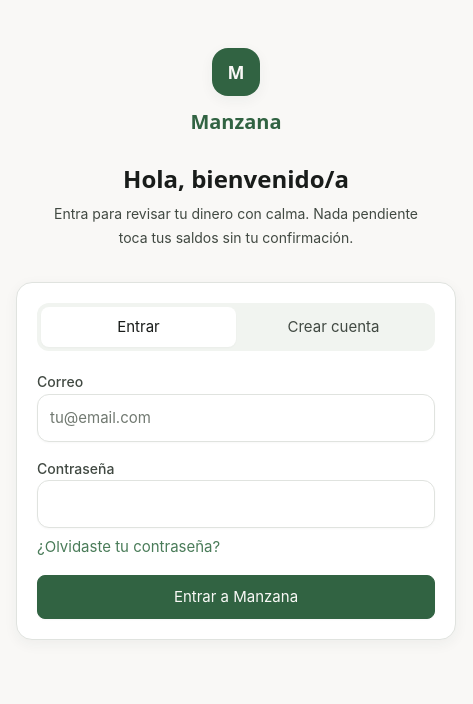
Test case: AuthScreen — AC-AUTH-01/RUL-AUTH-05: nunca propaga el mensaje del proveedor › email_not_confirmed ofrece reenviar verificación
The width and height of the screenshot is (473, 704).
Type "marco@ejemplo.com" into the field labelled "Correo" at (236, 418), box [37,394,435,442]
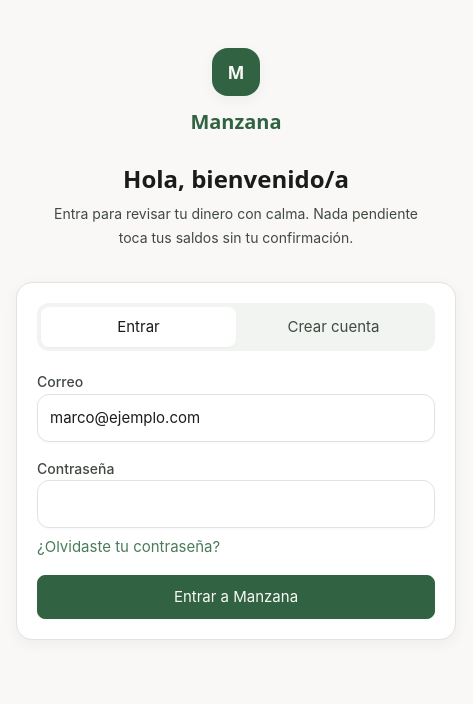
Type "unacontrasenalarga" into the password field labelled "Contraseña" at (236, 504), box [37,480,435,528]
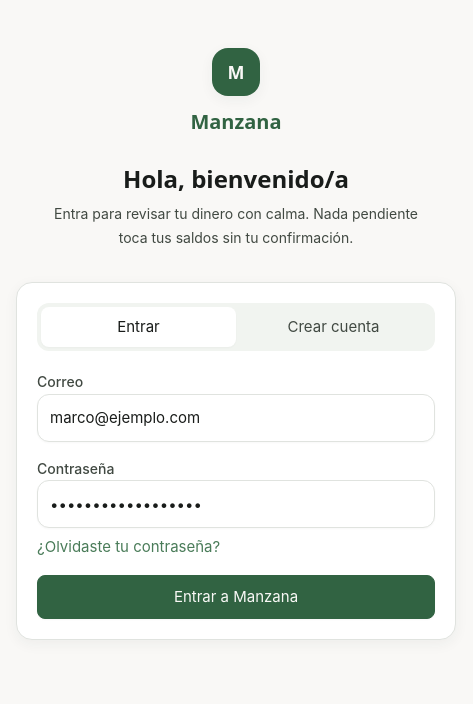
Click the button "Entrar a Manzana" at (236, 597), box [37,575,435,619]
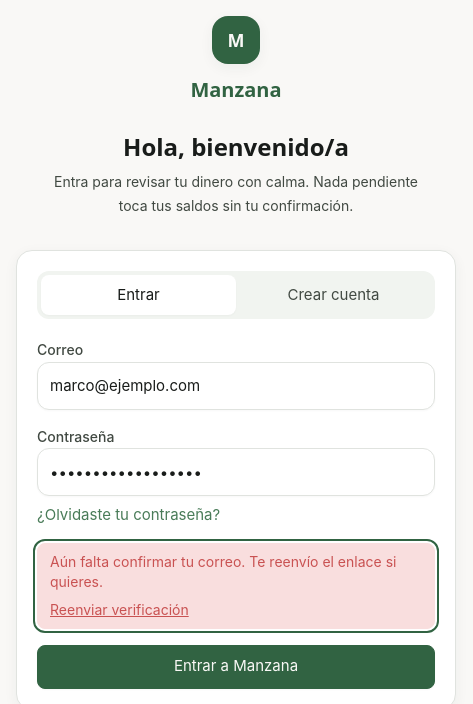
Expected: the message is shown, [37,542,435,628]
Expected: the button "Reenviar verificación" is shown, [50,600,189,620]
